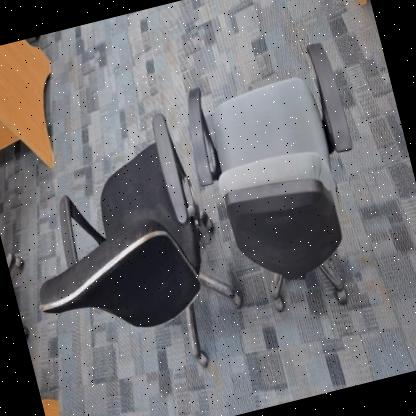chair: (0, 93, 254, 413), (165, 32, 404, 340)
